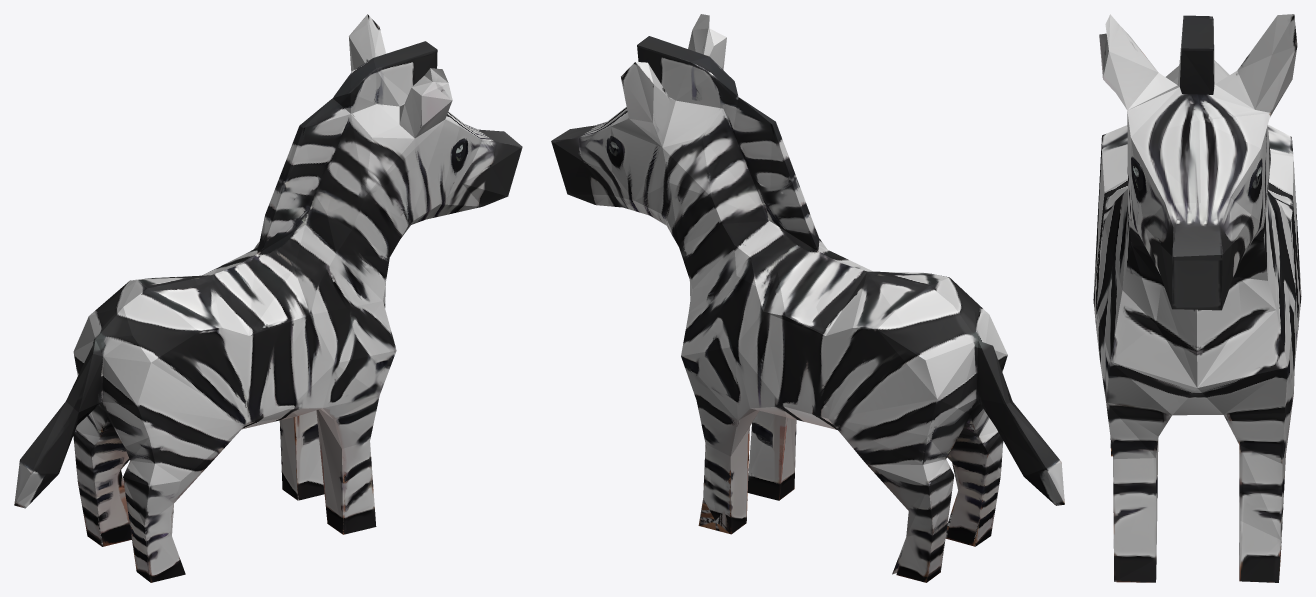
The picture shows the model from 3 angles, left to right: view 1: azimuth 30°, elevation 25°; view 2: azimuth 150°, elevation 25°; view 3: azimuth 270°, elevation 25°; orthographic projection. The views are drawn at different scales.
Parts seen in each view (by area): view 1: Figure; view 2: Figure; view 3: Figure.
Boxes of the visible parts, x1,y1,x2,y2 form: Figure: [14, 14, 522, 582]; Figure: [551, 14, 1064, 582]; Figure: [1093, 14, 1301, 582].
Bounding box in the file's own units: 0.6191 × 0.533 × 0.1657.
Materials: 1 (1 with a texture image).
